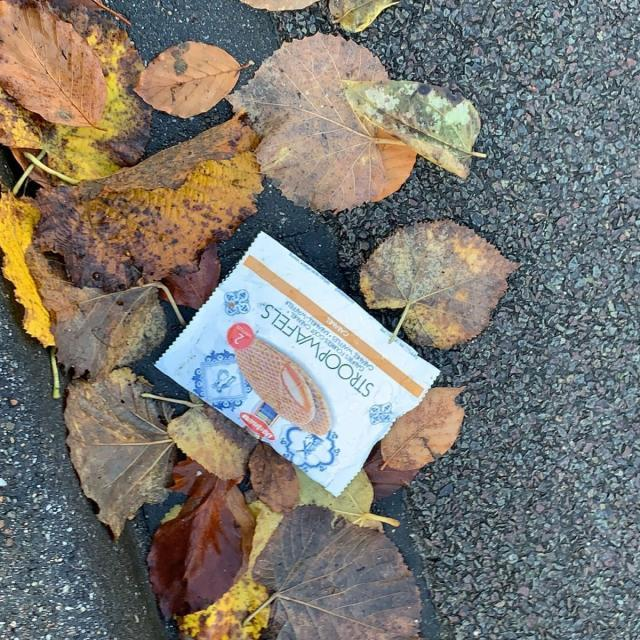Plastic: (149, 225, 442, 500)
